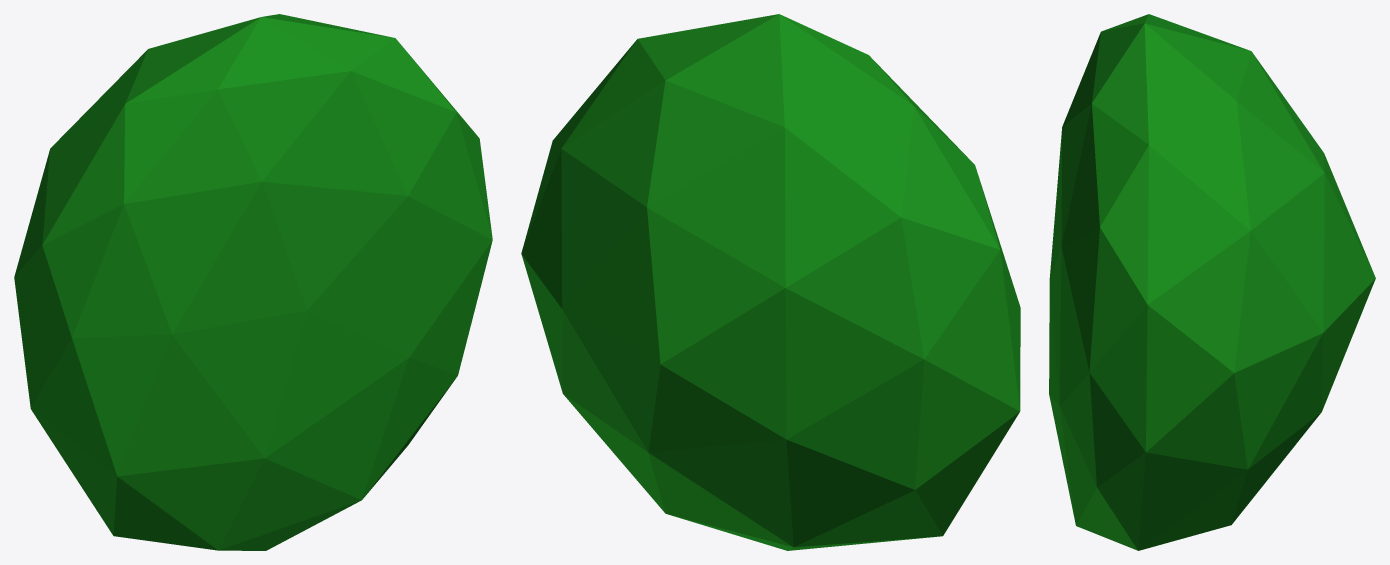
The model's file is ENVI_Bush_1.fbx.
The picture shows the model from 3 angles, left to right: view 1: azimuth 30°, elevation 25°; view 2: azimuth 150°, elevation 25°; view 3: azimuth 270°, elevation 25°; orthographic projection. The views are drawn at different scales.
Visible parts, largest first — view 1: Bush 1; view 2: Bush 1; view 3: Bush 1.
Boxes of the visible parts, x1,y1,x2,y2 form: Bush 1: (14, 14, 492, 550); Bush 1: (521, 14, 1020, 550); Bush 1: (1049, 14, 1375, 550).
Bounding box in the file's own units: 298 × 333 × 188.
